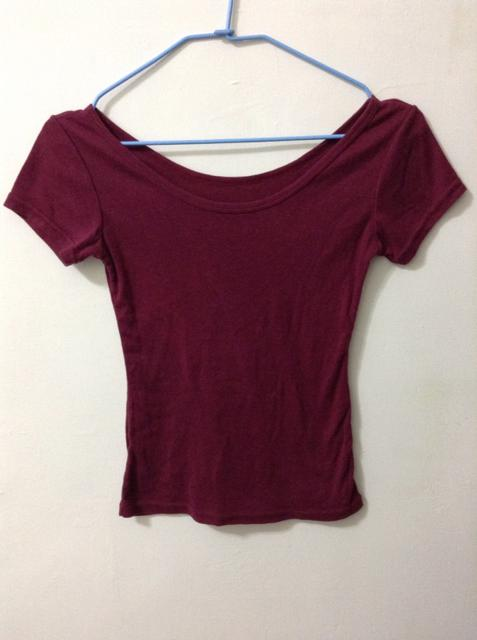Tops: (5, 93, 465, 528)
